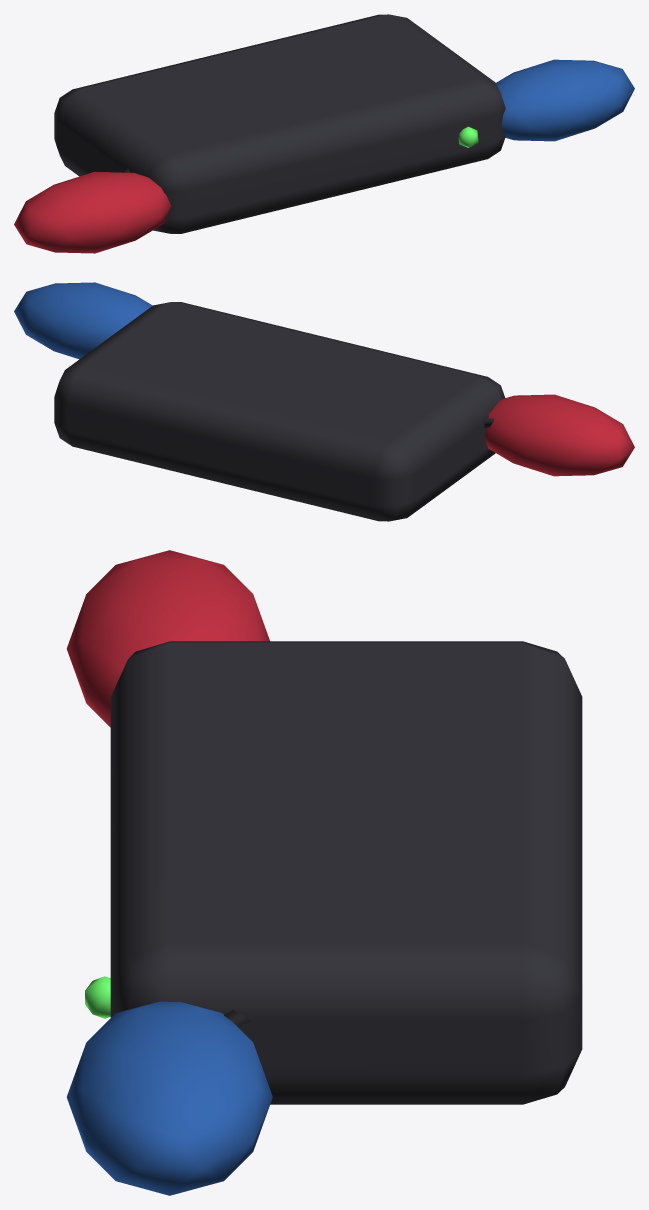
File: furn_party_console.glb
3 views of the same model, one above another, from view 1: azimuth 30°, elevation 25°; view 2: azimuth 150°, elevation 25°; view 3: azimuth 270°, elevation 25° (orthographic). The views are drawn at different scales.
Visible parts, largest first — view 1: furn_party_console_main; view 2: furn_party_console_main; view 3: furn_party_console_main, furn_party_console_glow.
Boxes of the visible parts, x1,y1,x2,y2 form: furn_party_console_main: [14, 14, 634, 253]; furn_party_console_main: [14, 282, 634, 521]; furn_party_console_main: [66, 550, 582, 1195]; furn_party_console_glow: [85, 976, 110, 1018].
Size of the model in its own units: 0.4741 by 0.06 by 0.175.
